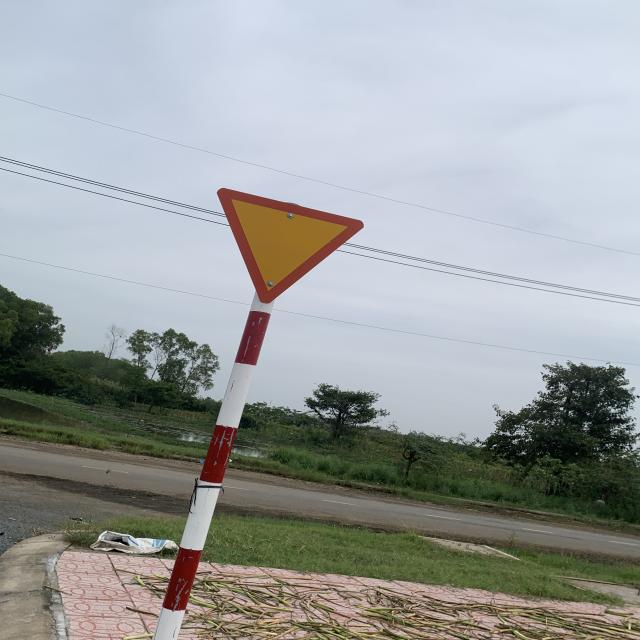Gioi_Han_Toc_Do_25: (216, 185, 364, 304)
